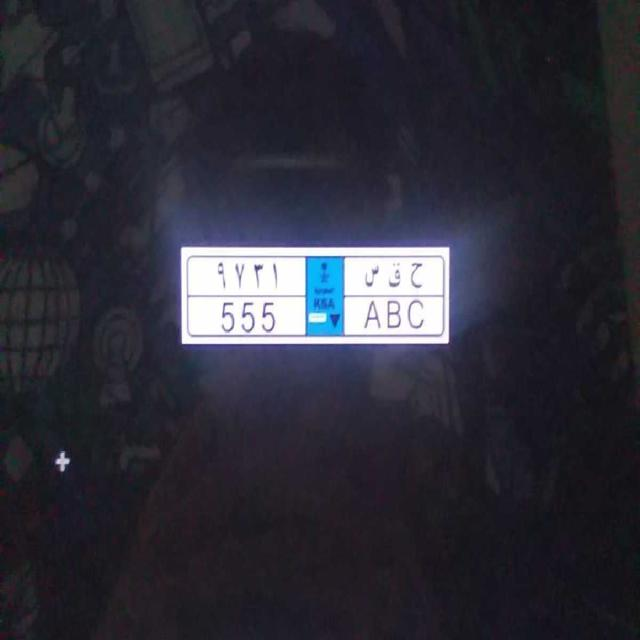license_plate: (196, 292, 440, 342)
